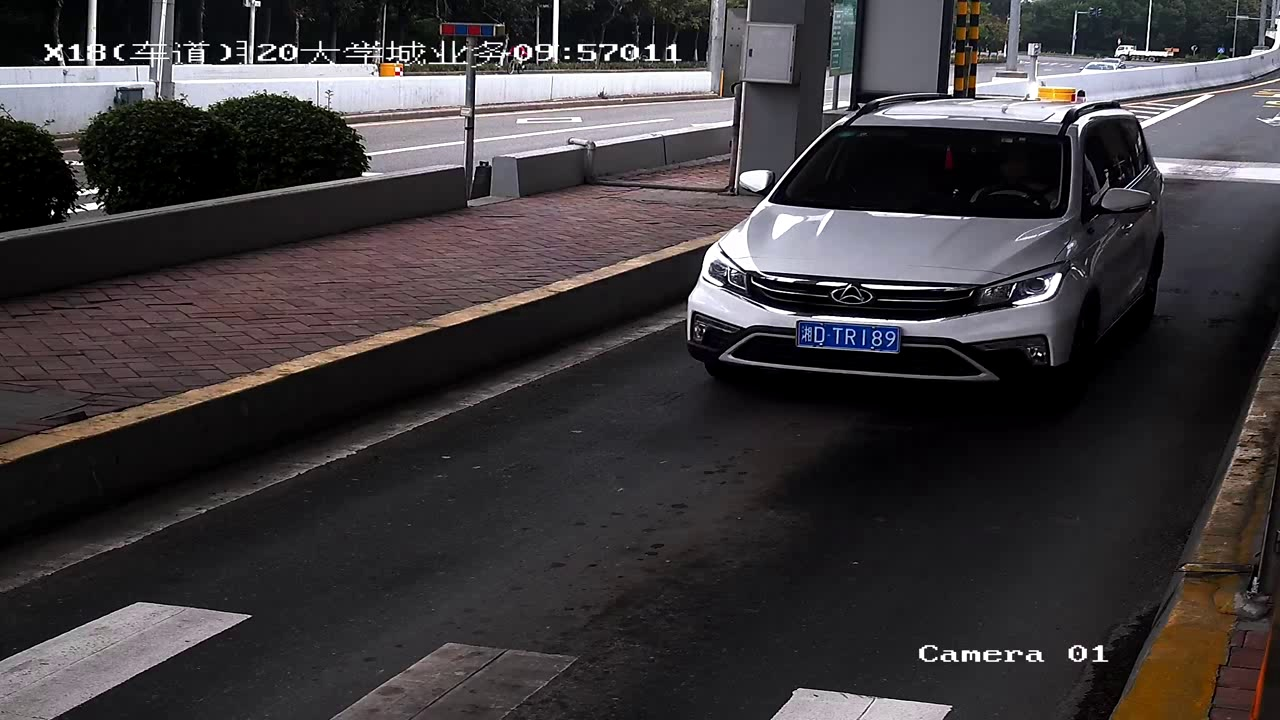bluePlate: (792, 316, 905, 356)
car: (672, 56, 1183, 419)
